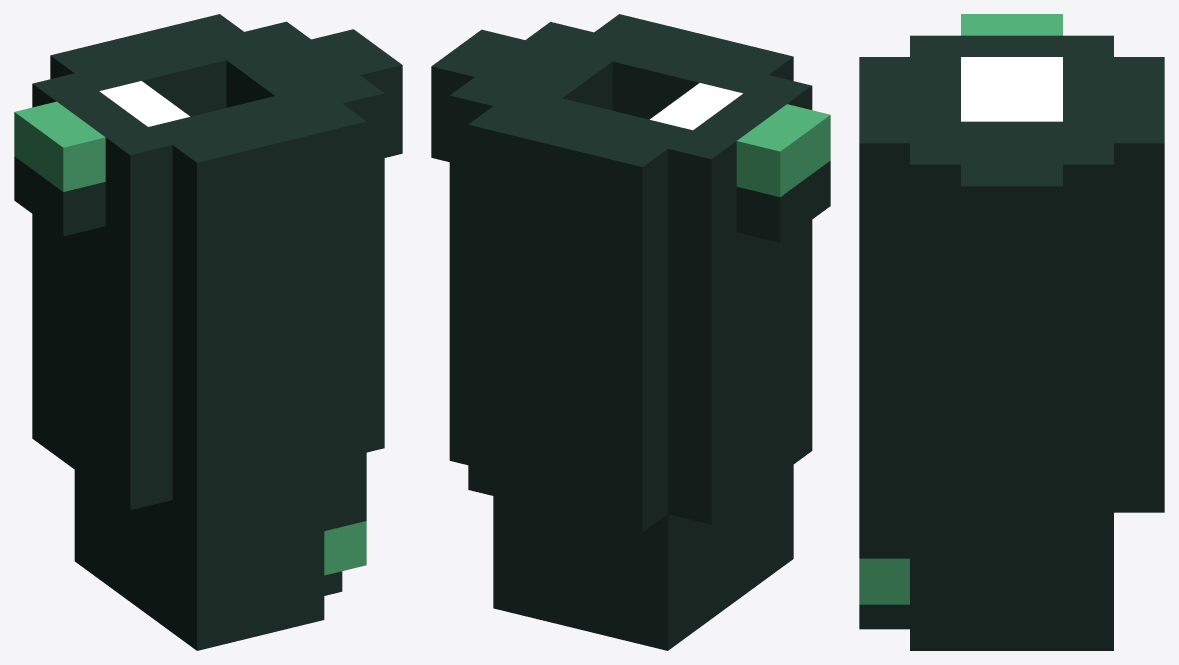
The model's file is mystic_common_glove_L_lod1.glb.
The picture shows the model from 3 angles, left to right: view 1: azimuth 30°, elevation 25°; view 2: azimuth 150°, elevation 25°; view 3: azimuth 270°, elevation 25°; orthographic projection. The views are drawn at different scales.
Parts seen in each view (by area): view 1: mystic_common_glove_L_lod1; view 2: mystic_common_glove_L_lod1; view 3: mystic_common_glove_L_lod1.
Boxes of the visible parts, x1=… form: mystic_common_glove_L_lod1: x1=14, y1=14, x2=402, y2=650; mystic_common_glove_L_lod1: x1=431, y1=14, x2=830, y2=650; mystic_common_glove_L_lod1: x1=859, y1=14, x2=1164, y2=650.
Size of the model in its own units: 0.192 by 0.264 by 0.144.
